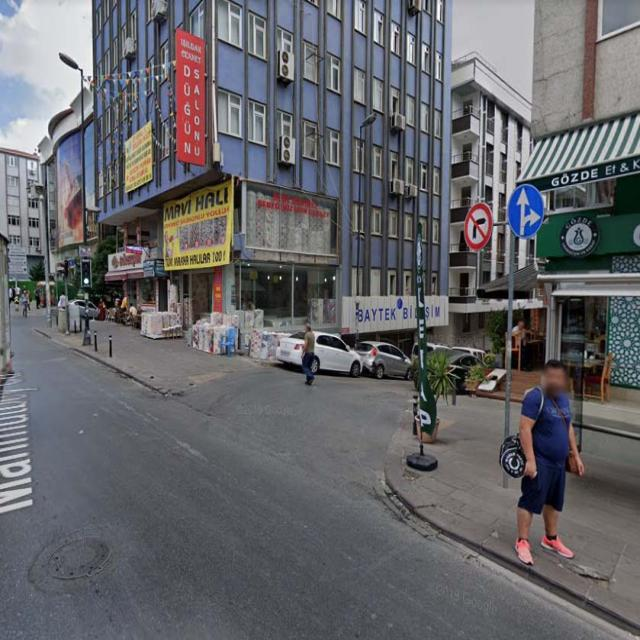ilerisag: (507, 185, 545, 238)
sagadonulmez: (463, 203, 492, 250)
yesil: (80, 259, 90, 288)
